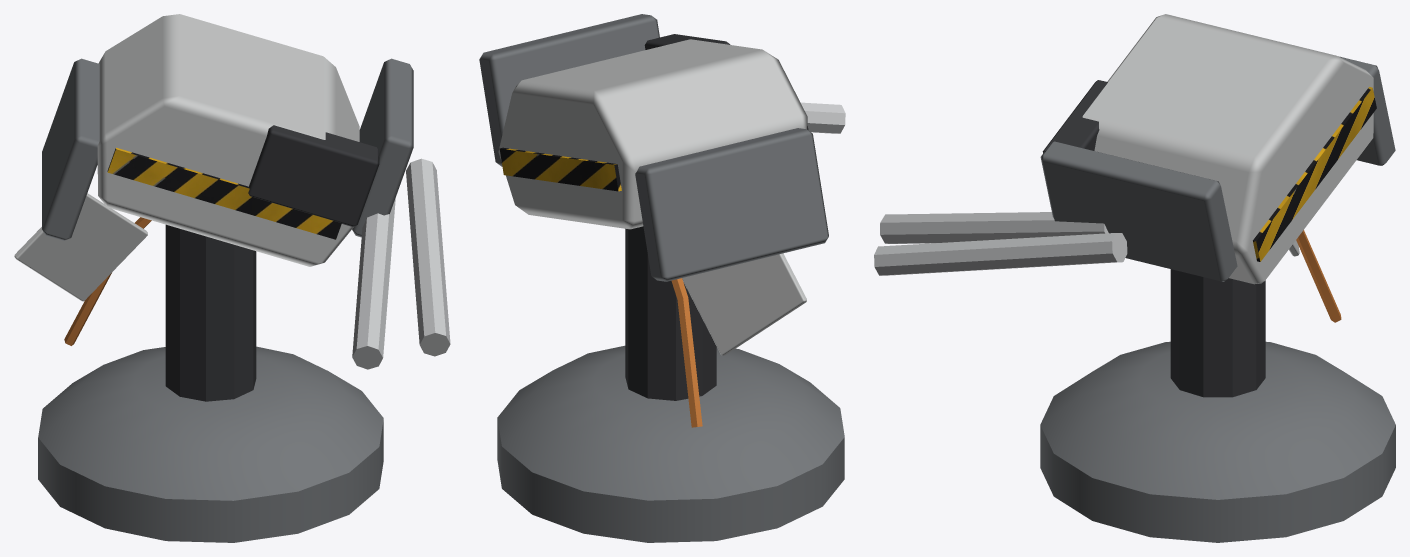
Rendered from turret_broken.glb.
3 renders of one model, left to right at view 1: azimuth 30°, elevation 25°; view 2: azimuth 150°, elevation 25°; view 3: azimuth 270°, elevation 25°, orthographic. The views are drawn at different scales.
Visible parts, largest first — view 1: turret_broken; view 2: turret_broken; view 3: turret_broken.
Part boxes in pixels (<box>): turret_broken: <box>14,14,450,542</box>; turret_broken: <box>479,14,845,542</box>; turret_broken: <box>874,14,1395,542</box>.
Bounding box in the file's own units: 1.07 × 1.17 × 1.32.
Materials: 7 (1 with a texture image).
